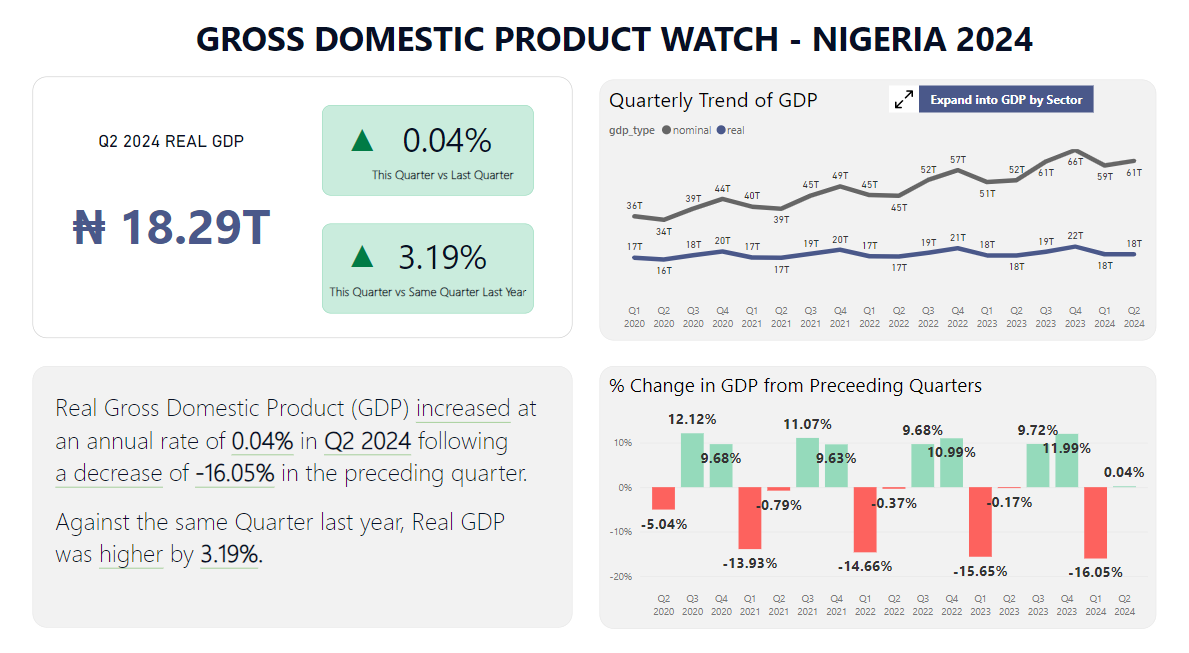

This screenshot's page, from the dashboard's own definition file:
{"tool":"powerbi","page":{"name":"GDP ","canvas":[1366,768],"ordinal":0},"visuals":[{"type":"image","title":"expand button","box":[1003.5,126.1,33.6,30.3],"z":0,"group":"g4"},{"type":"textbox","box":[75,140,261.7,231.7],"z":0},{"type":"textbox","title":"QoQ background","box":[373.2,146.2,235.5,100.9],"z":0,"group":"g2"},{"type":"card","title":"Q1 2022 REAL GDP","fields":{"Values":["measures_.current real gdp"]},"box":[74.8,214.8,261,127.3],"z":0,"group":"g3"},{"type":"textbox","title":"YoY background","box":[373.8,278,235.3,100],"z":0,"group":"g1"},{"type":"lineChart","title":"Quarterly Trend of GDP","fields":{"Y":["measures_.gdp"],"Category":["date table.Quarter Year"],"Series":["gdp.gdp_type"]},"box":[681.7,118.3,618.3,290],"z":1000},{"type":"textbox","title":"expand text","box":[1037.5,125.7,194.1,30.2],"z":1000,"group":"g4"},{"type":"card","fields":{"Values":["measures_.current quarter text"]},"box":[71.6,151.2,267.3,68.4],"z":1000,"group":"g3"},{"type":"card","title":"QoQ text","fields":{"Values":["measures_.% QoQ"]},"box":[430.9,159.4,160.7,48.1],"z":1000,"group":"g2"},{"type":"card","title":"YoY text","fields":{"Values":["measures_.% YoY"]},"box":[427.9,289.8,160,48.7],"z":1000,"group":"g1"},{"type":"textbox","box":[52.1,114.3,600.1,290.8],"z":2000},{"type":"card","title":"QoQ indicator","fields":{"Values":["measures_.QoQ indicator"]},"box":[393.6,156.2,48.7,52.5],"z":2000,"group":"g2"},{"type":"card","title":"YoY indicator","fields":{"Values":["measures_.YoY indicator"]},"box":[394.3,286.5,48.7,52.1],"z":2000,"group":"g1"},{"type":"textbox","box":[165,41.7,1066.7,61.7],"z":3000},{"type":"clusteredColumnChart","title":"% Change in GDP from Preceeding Quarters","fields":{"Category":["date table.Quarter Year"],"Y":["measures_.% QoQ"]},"box":[681.7,436.7,618.3,291.7],"z":4000},{"type":"group","id":"g1","title":"YoY","box":[373.8,278,235.3,100],"z":5000},{"type":"group","id":"g2","title":"QoQ","box":[373.2,146.2,235.3,99.2],"z":6000},{"type":"textbox","box":[52.1,437,600.1,290.8],"z":7000},{"type":"group","id":"g3","title":"Group 3","box":[71.6,151.2,267.3,192.5],"z":8000},{"type":"textbox","box":[418.5,208.4,178.2,33.6],"z":9000},{"type":"textbox","box":[364.8,337.9,252.1,33.6],"z":10000},{"type":"textbox","box":[72.3,458.9,556.4,250.5],"z":11000},{"type":"group","id":"g4","title":"Group 1","box":[1003.5,125.7,228.1,30.6],"z":13000}]}

Visuals, with their boxes in screenshot pixels (x1, y1, x2, y2), scaled from the page's 1366x768 canvas onto the 1189x653 screenshot:
"expand button" image: [x1=873, y1=107, x2=903, y2=133]
textbox: [x1=65, y1=119, x2=293, y2=316]
"QoQ background" textbox: [x1=325, y1=124, x2=530, y2=210]
"Q1 2022 REAL GDP" card: [x1=65, y1=183, x2=292, y2=291]
"YoY background" textbox: [x1=325, y1=236, x2=530, y2=321]
"Quarterly Trend of GDP" lineChart: [x1=593, y1=101, x2=1132, y2=347]
"expand text" textbox: [x1=903, y1=107, x2=1072, y2=133]
card - measures_.current quarter text: [x1=62, y1=129, x2=295, y2=187]
"QoQ text" card: [x1=375, y1=136, x2=515, y2=176]
"YoY text" card: [x1=372, y1=246, x2=512, y2=288]
textbox: [x1=45, y1=97, x2=568, y2=344]
"QoQ indicator" card: [x1=343, y1=133, x2=385, y2=177]
"YoY indicator" card: [x1=343, y1=244, x2=386, y2=288]
textbox: [x1=144, y1=35, x2=1072, y2=88]
"% Change in GDP from Preceeding Quarters" clusteredColumnChart: [x1=593, y1=371, x2=1132, y2=619]
"YoY" group: [x1=325, y1=236, x2=530, y2=321]
"QoQ" group: [x1=325, y1=124, x2=530, y2=209]
textbox: [x1=45, y1=372, x2=568, y2=619]
"Group 3" group: [x1=62, y1=129, x2=295, y2=292]
textbox: [x1=364, y1=177, x2=519, y2=206]
textbox: [x1=318, y1=287, x2=537, y2=316]
textbox: [x1=63, y1=390, x2=547, y2=603]
"Group 1" group: [x1=873, y1=107, x2=1072, y2=133]
